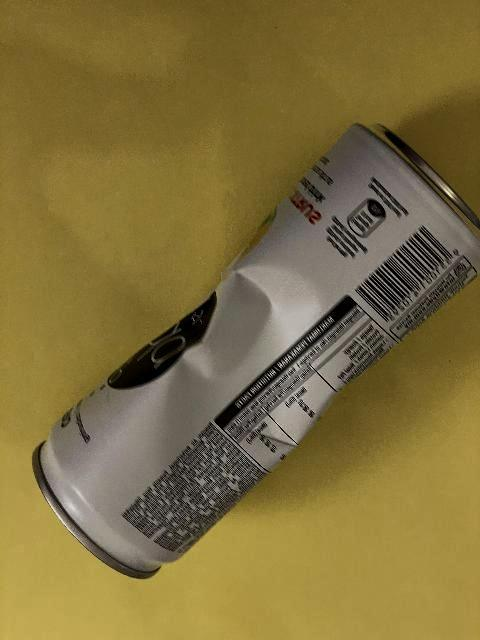drinkcan: (30, 119, 480, 583)
